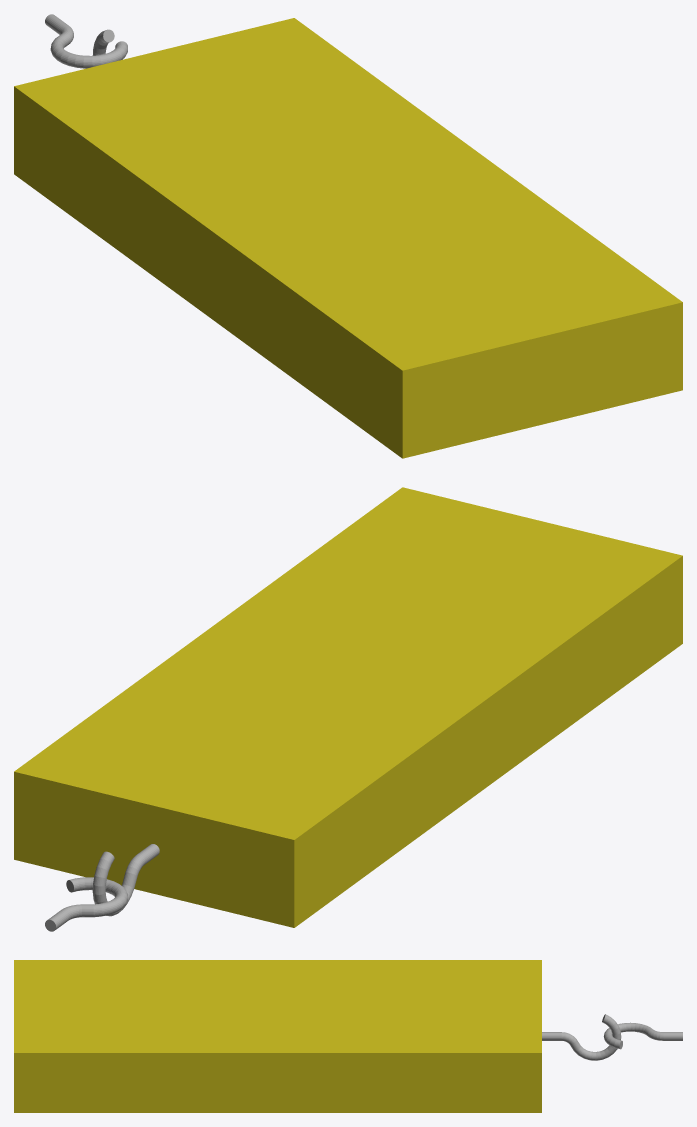
Rendered from dynamometer.obj.
3 views of the same model, one above another, from view 1: azimuth 30°, elevation 25°; view 2: azimuth 150°, elevation 25°; view 3: azimuth 270°, elevation 25° (orthographic). The views are drawn at different scales.
Visible parts, largest first — view 1: b_dyn_body_001_, b_dyn_hook_small_001_; view 2: b_dyn_body_001_, b_dyn_hook_small_001_, b_dyn_hook_001_; view 3: b_dyn_body_001_, b_dyn_hook_001_, b_dyn_hook_small_001_.
Boxes of the visible parts, box(x1,y1,x2,y2) form: b_dyn_body_001_: box(14, 18, 682, 458); b_dyn_hook_small_001_: box(45, 14, 127, 68); b_dyn_body_001_: box(14, 487, 682, 927); b_dyn_hook_small_001_: box(45, 877, 127, 931); b_dyn_hook_001_: box(92, 844, 159, 916); b_dyn_body_001_: box(14, 960, 541, 1112); b_dyn_hook_001_: box(542, 1014, 621, 1060); b_dyn_hook_small_001_: box(603, 1022, 682, 1049).
Bounding box in the file's own units: 50 × 15 × 152.
